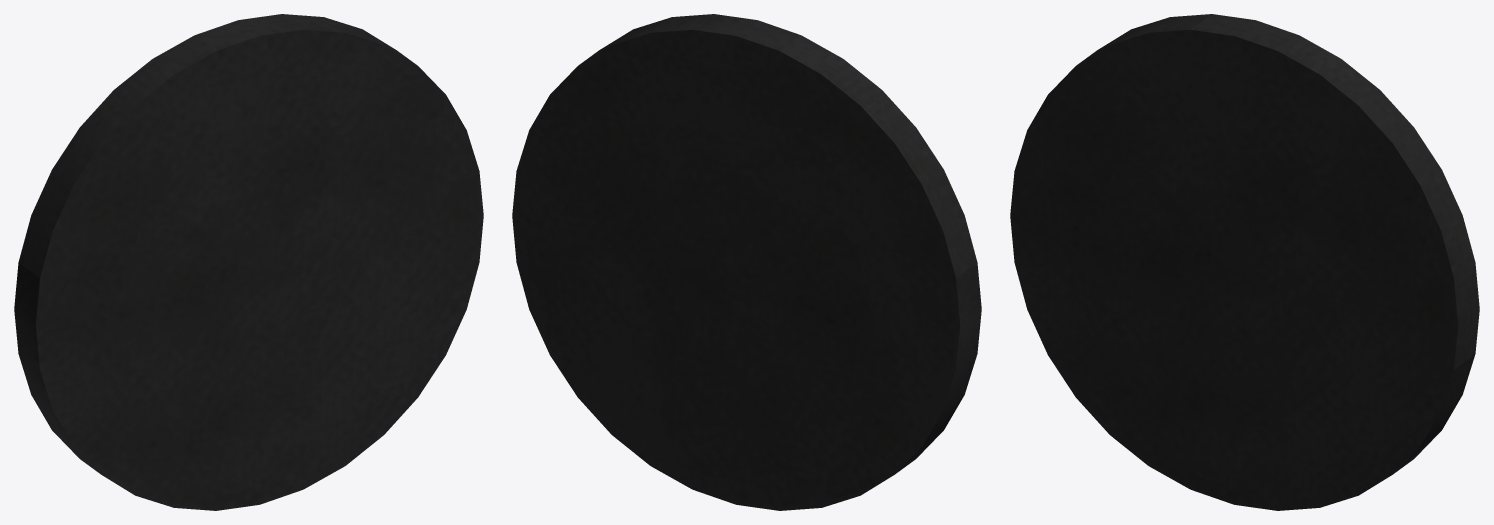
The model's file is body__top_vent.glb.
3 views of the same model, side by side, from view 1: azimuth 30°, elevation 25°; view 2: azimuth 150°, elevation 25°; view 3: azimuth 330°, elevation 25° (orthographic).
Parts seen in each view (by area): view 1: geometry_0; view 2: geometry_0; view 3: geometry_0.
Boxes of the visible parts, bbox=[...] form: geometry_0: bbox=[14, 14, 483, 510]; geometry_0: bbox=[512, 14, 981, 510]; geometry_0: bbox=[1010, 14, 1479, 510].
Size of the model in its own units: 0.144 by 0.144 by 0.012.
1 material, 1 textured.
